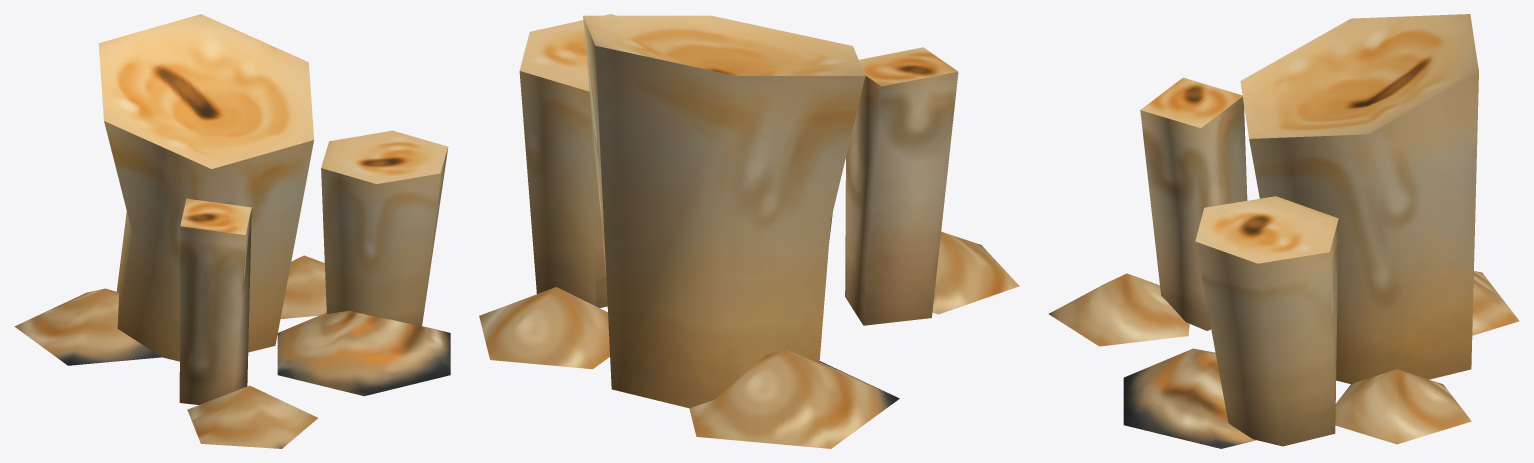
The model's file is candles_01.FBX.
3 views of the same model, side by side, from view 1: azimuth 30°, elevation 25°; view 2: azimuth 150°, elevation 25°; view 3: azimuth 270°, elevation 25° (orthographic). The views are drawn at different scales.
Parts seen in each view (by area): view 1: candles_01; view 2: candles_01; view 3: candles_01.
Boxes of the visible parts, x1,y1,x2,y2 form: candles_01: (14, 14, 450, 448); candles_01: (479, 14, 1019, 448); candles_01: (1049, 14, 1519, 448).
Bounding box in the file's own units: 21.07 × 16.15 × 22.8.
